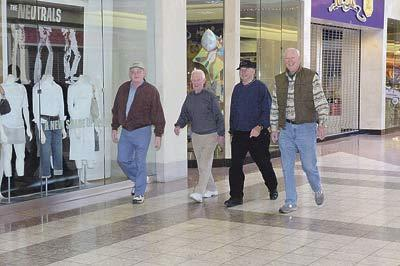Person: (114, 66, 169, 207), (272, 52, 319, 207), (175, 67, 222, 217), (234, 60, 275, 201)
